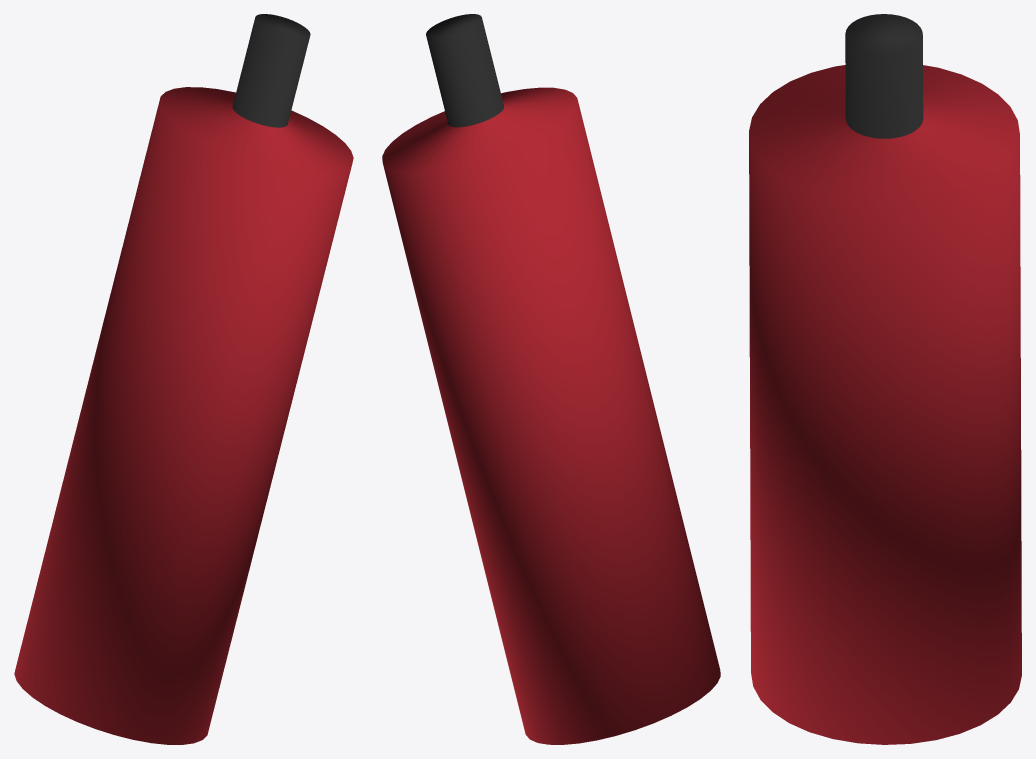
File: Petarda predmet koji se ne smije hvatati.fbx
The picture shows the model from 3 angles, left to right: view 1: azimuth 30°, elevation 25°; view 2: azimuth 150°, elevation 25°; view 3: azimuth 270°, elevation 25°; orthographic projection. The views are drawn at different scales.
Parts seen in each view (by area): view 1: Petarda predmet koji se izbjegava; view 2: Petarda predmet koji se izbjegava; view 3: Petarda predmet koji se izbjegava.
Boxes of the visible parts, x1,y1,x2,y2 form: Petarda predmet koji se izbjegava: (14, 14, 353, 744); Petarda predmet koji se izbjegava: (382, 14, 720, 744); Petarda predmet koji se izbjegava: (749, 14, 1021, 744).
Size of the model in its own units: 29.26 by 61.78 by 19.84.
